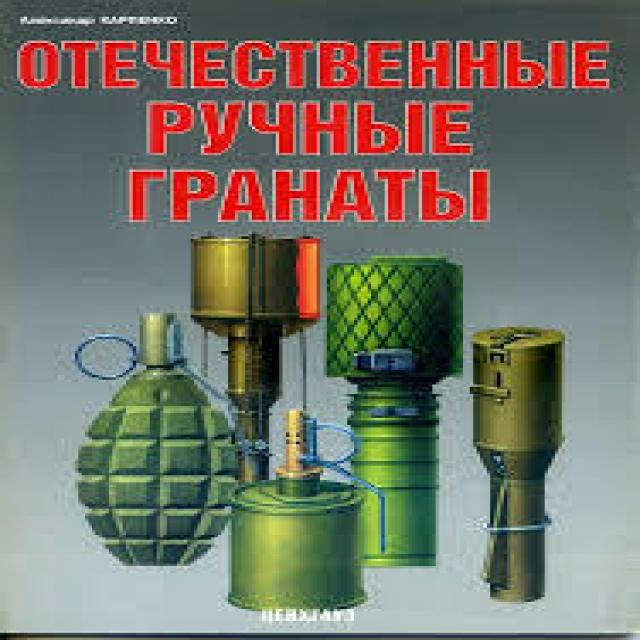grenade: (53, 294, 233, 578), (330, 246, 473, 566), (460, 300, 596, 612), (190, 220, 334, 473), (223, 412, 369, 620)
